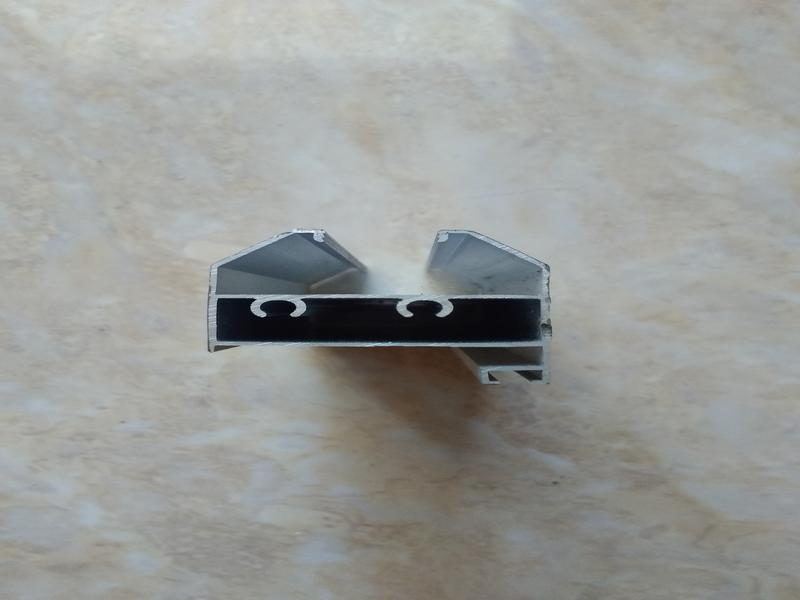Aluminium_3: (180, 179, 590, 412)
